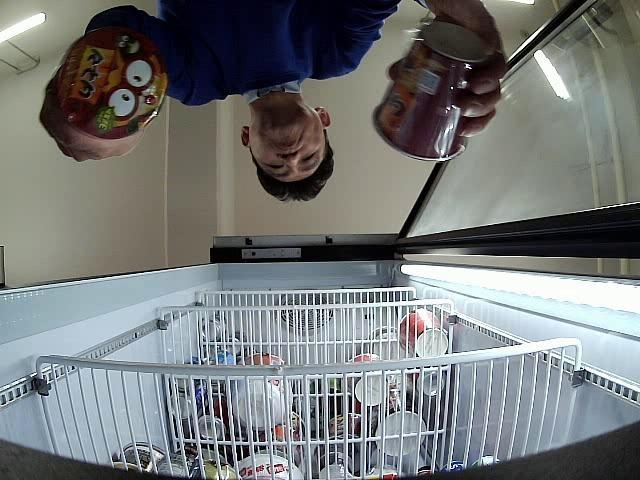06_nuguri_S: (372, 22, 494, 162), (57, 26, 166, 139)
